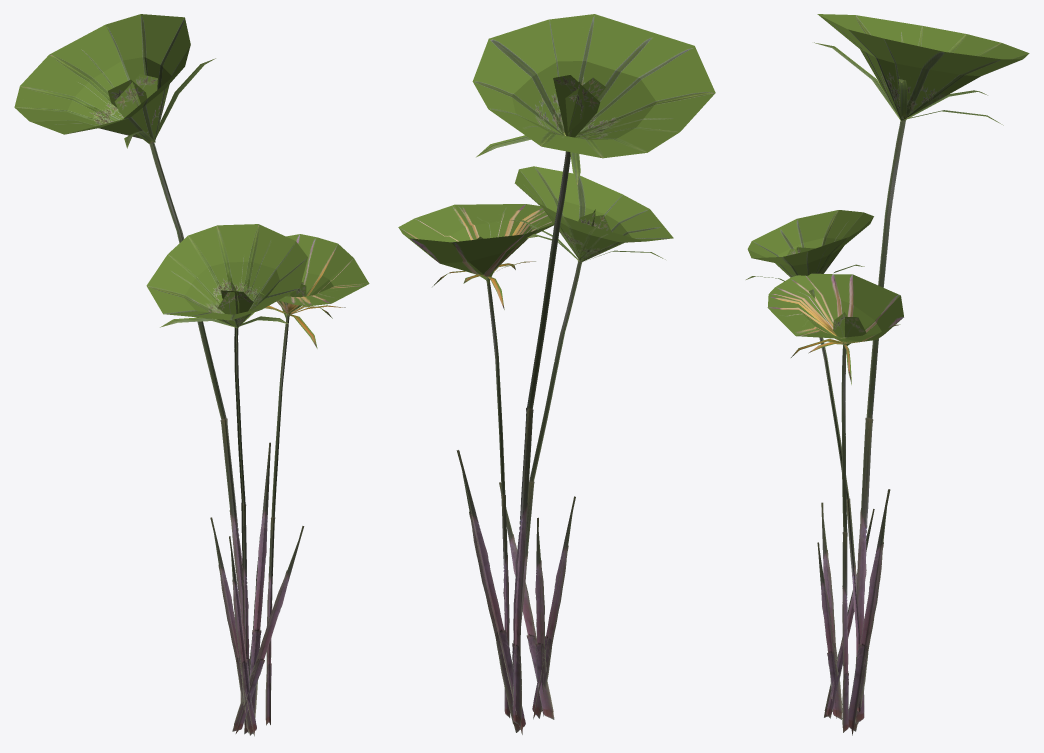
Rendered from Plant_papyrus001.fbx.
The picture shows the model from 3 angles, left to right: view 1: azimuth 30°, elevation 25°; view 2: azimuth 150°, elevation 25°; view 3: azimuth 270°, elevation 25°; orthographic projection. The views are drawn at different scales.
Parts seen in each view (by area): view 1: Plant_papyrus001; view 2: Plant_papyrus001; view 3: Plant_papyrus001.
Boxes of the visible parts, x1,y1,x2,y2 form: Plant_papyrus001: (14,14,369,736); Plant_papyrus001: (398,14,715,734); Plant_papyrus001: (746,14,1029,735).
Bounding box in the file's own units: 115 × 265 × 101.
